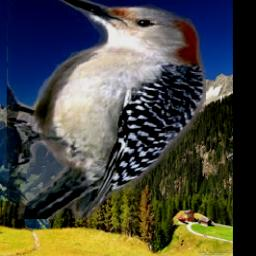Woodpecker: (6, 0, 205, 220)
